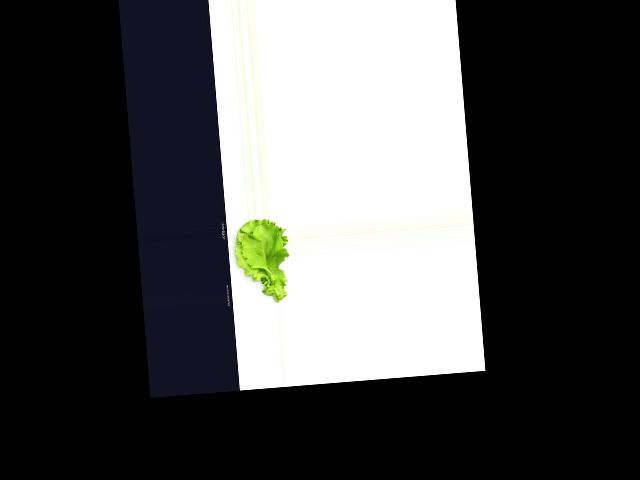lettuce: (228, 217, 293, 303)
